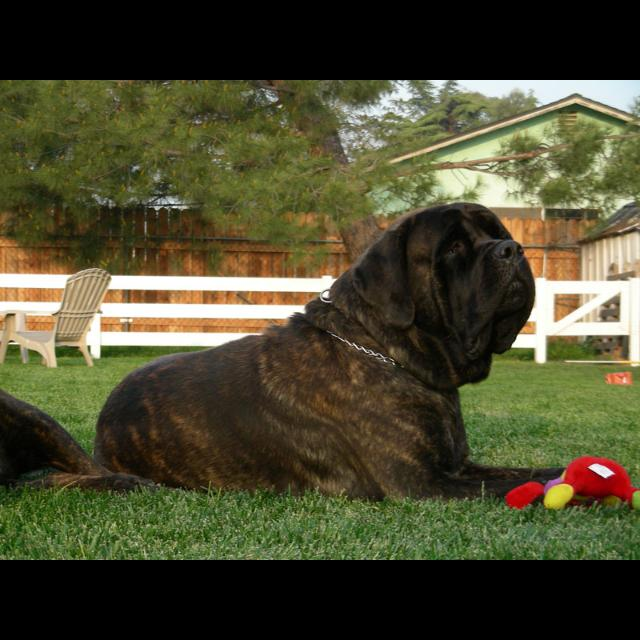mastino_napoletano: (1, 201, 569, 505)
